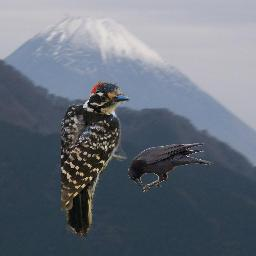Crow: (128, 143, 214, 193)
Woodpecker: (61, 80, 130, 240)
